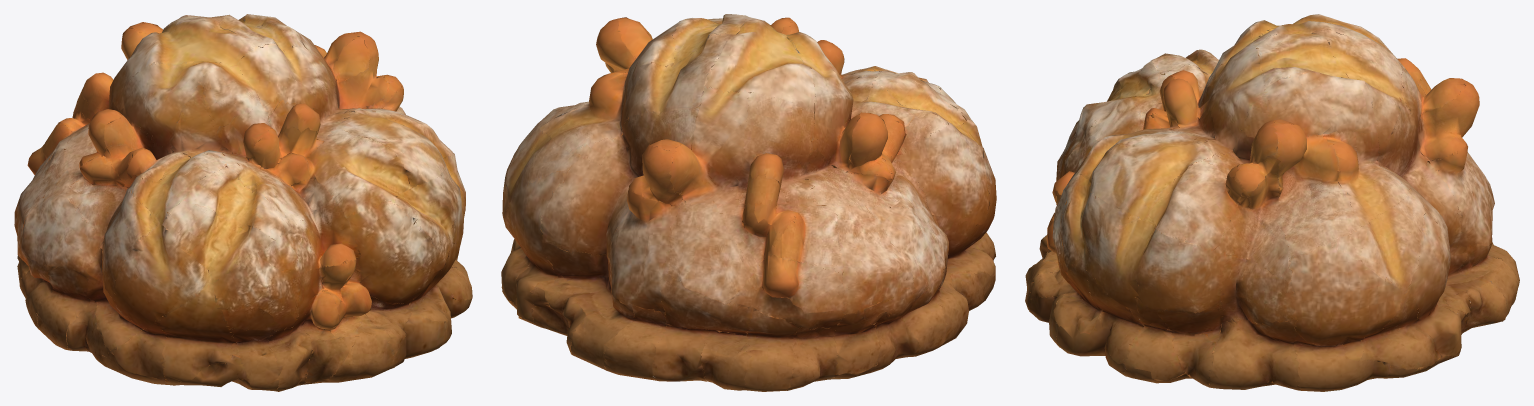
File: monument-golden-bloom.glb
3 views of the same model, side by side, from view 1: azimuth 30°, elevation 25°; view 2: azimuth 150°, elevation 25°; view 3: azimuth 270°, elevation 25° (orthographic). The views are drawn at different scales.
Parts seen in each view (by area): view 1: Mesh_0; view 2: Mesh_0; view 3: Mesh_0.
Part boxes in pixels (x1,y1,x2,y2): Mesh_0: (14, 14, 472, 391); Mesh_0: (501, 14, 996, 391); Mesh_0: (1025, 14, 1519, 391).
Bounding box in the file's own units: 1.79 × 1.19 × 1.9.
1 material, 1 textured.
